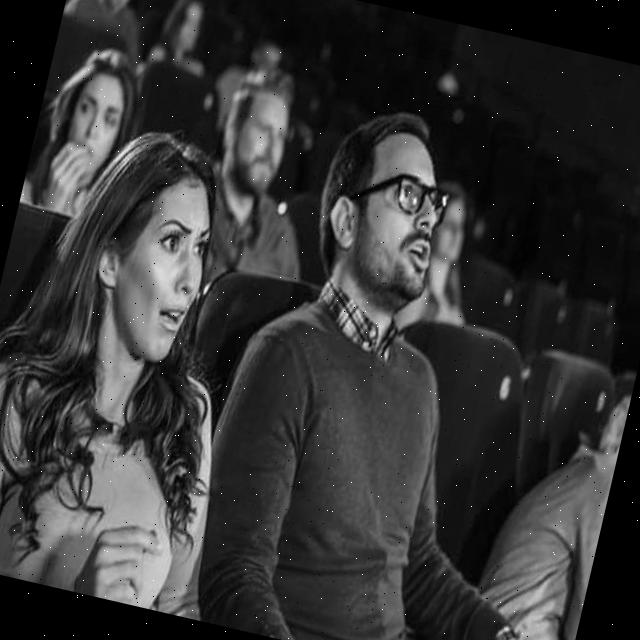Fear: (106, 170, 223, 369)
